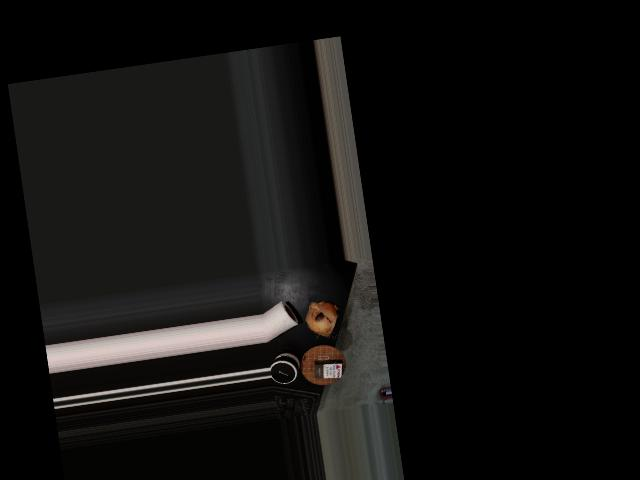onion: (302, 296, 343, 340)
